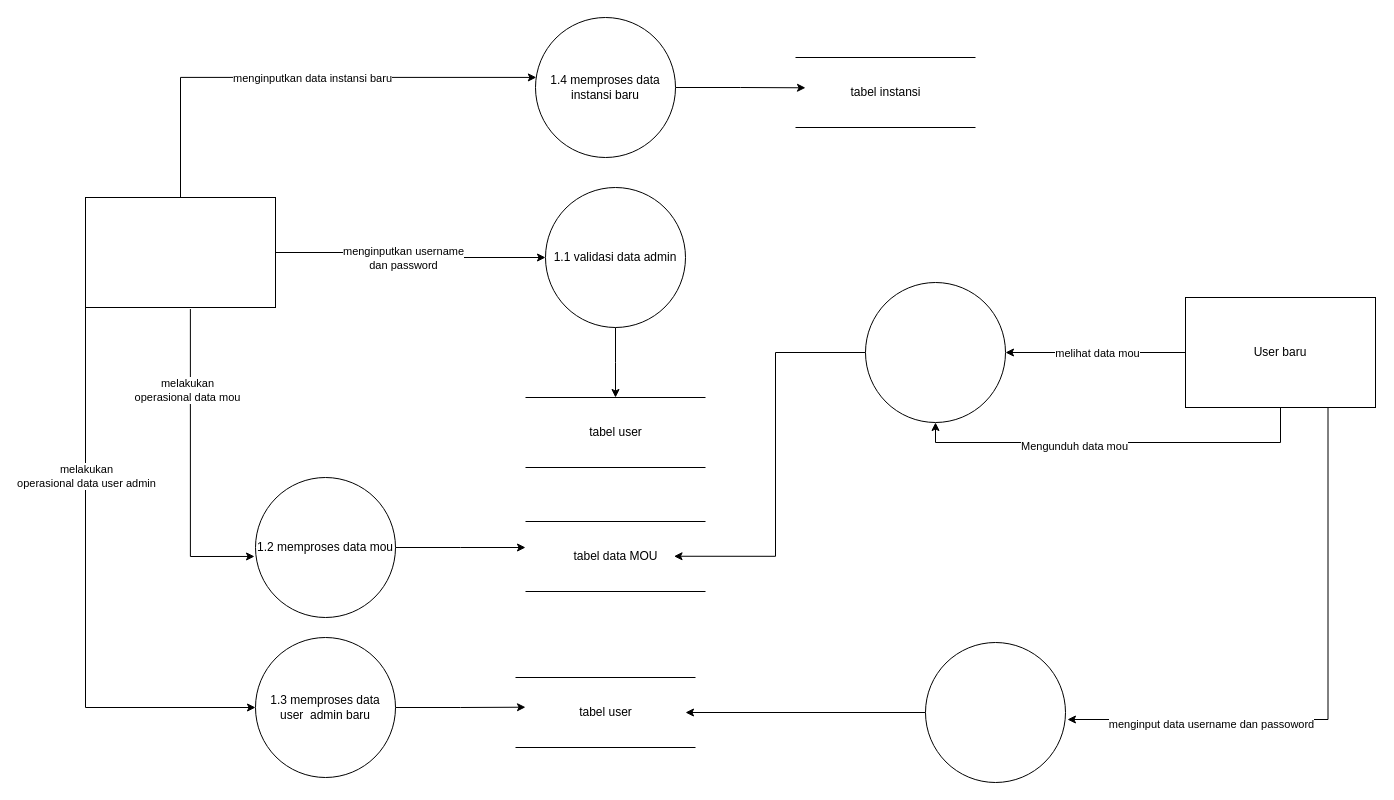
The diagram is 1394 pixels wide and 800 high, and some of its shapes have lost their labels. Here are the shapes that lost their labels. From the top down, the centre of each, then its label:
[180,252]: Admin
[935,352]: 1.6 memproses data mou
[995,712]: 1.7 validasi data user biasa
